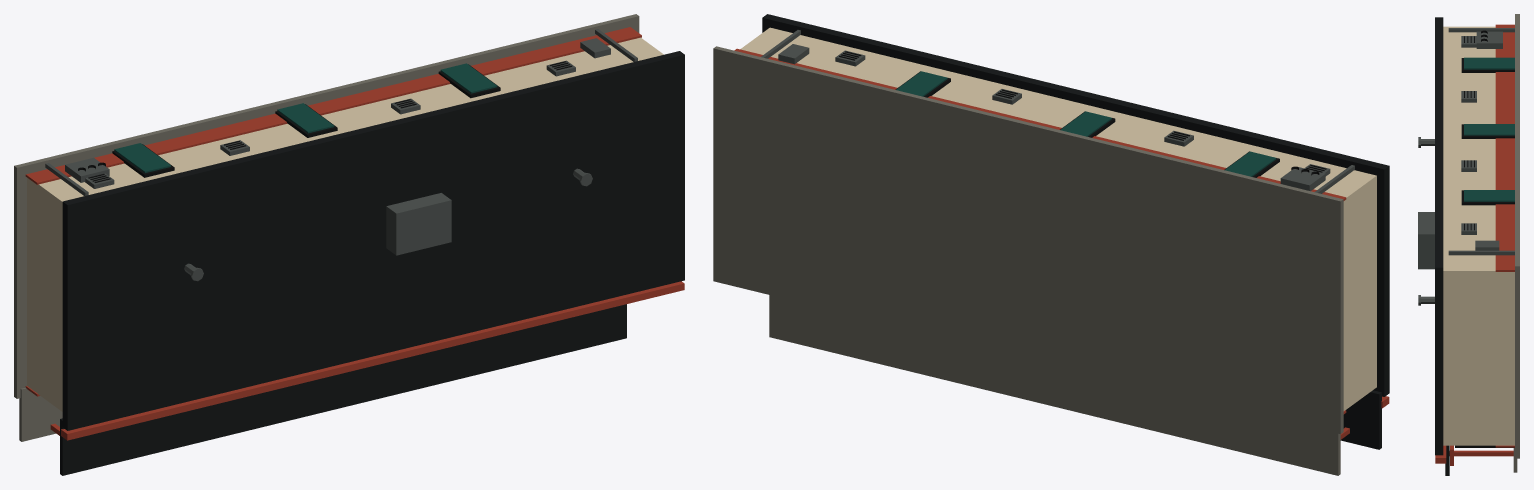
The model's file is motel.obj.
The picture shows the model from 3 angles, left to right: view 1: azimuth 30°, elevation 25°; view 2: azimuth 150°, elevation 25°; view 3: azimuth 270°, elevation 25°; orthographic projection. The views are drawn at different scales.
Parts seen in each view (by area): view 1: roof, canopy, main_shell, foundation, front_fascia, coral_base_back, roof_hvac, front_walkway, service_door_2, service_door_3, service_door_1; view 2: foundation, front_walkway, main_shell, roof, canopy, coral_base_back, service_door_2, service_door_3, service_door_1, meter_bank; view 3: main_shell, roof, coral_base_back, foundation, roof_hvac, service_door_1, service_door_2, service_door_3, meter_bank, canopy_post_9, downspout_2, downspout_1 (+11 smaller).
Boxes of the visible parts, x1,y1,x2,y2 form: roof: (62,51,684,430); canopy: (60,304,626,475); main_shell: (27,37,663,411); foundation: (14,14,639,398); front_fascia: (61,281,684,440); coral_base_back: (25,27,641,184); roof_hvac: (386,193,451,255); front_walkway: (19,387,62,441); service_door_2: (277,103,334,133); service_door_3: (440,63,497,93); service_door_1: (114,143,170,172); foundation: (713,46,1343,434); front_walkway: (769,295,1340,475); main_shell: (740,27,1376,410); roof: (762,14,1389,396); canopy: (1340,390,1381,449); coral_base_back: (734,48,1346,200); service_door_2: (1060,111,1111,136); service_door_3: (896,71,947,96); service_door_1: (1224,151,1276,176); meter_bank: (1280,166,1325,191); main_shell: (1443,26,1514,445); roof: (1435,17,1443,455); coral_base_back: (1495,24,1514,271); foundation: (1515,14,1519,458); roof_hvac: (1418,212,1434,269); service_door_1: (1464,57,1514,69); service_door_2: (1464,124,1514,135); service_door_3: (1464,190,1514,201); meter_bank: (1476,31,1502,48); canopy_post_9: (1449,450,1513,456); downspout_2: (1448,250,1514,255); downspout_1: (1448,28,1514,32).
Size of the model in its own units: 24.8 by 10.64 by 4.22.
